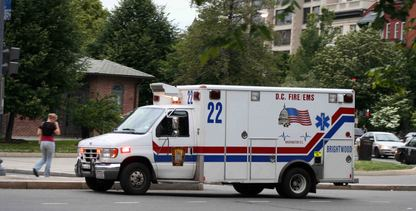ambulance: (74, 83, 360, 199)
car: (354, 131, 404, 159), (394, 138, 416, 164), (353, 128, 365, 145), (402, 132, 416, 141)
